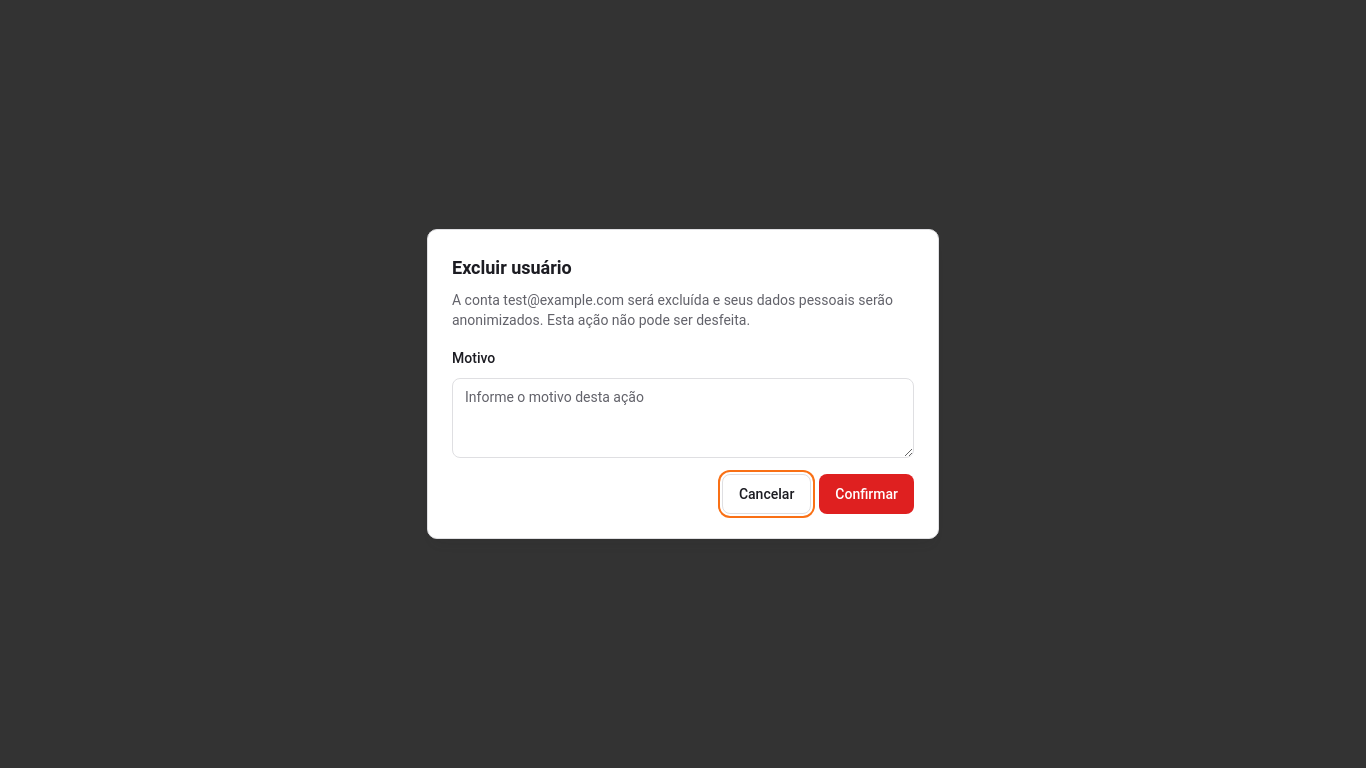
Test: Admin user action confirmations › keeps destructive confirmation open when reason is missing
What coordinates should you click on to do the following:
click the button "Confirmar"
I would click on:
 (867, 494)
Its box is [819,474,914,514].
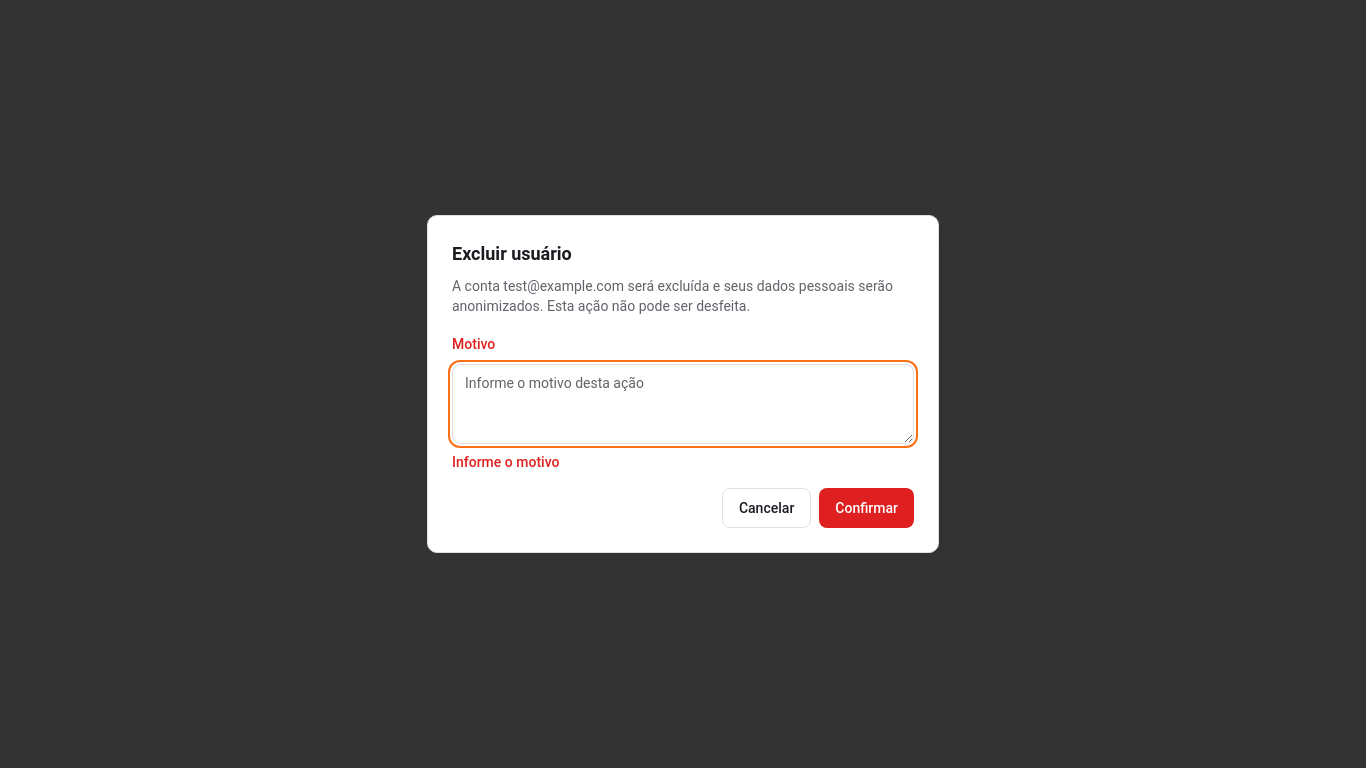
Expected: the text "Informe o motivo" is shown, [452,454,560,470]
